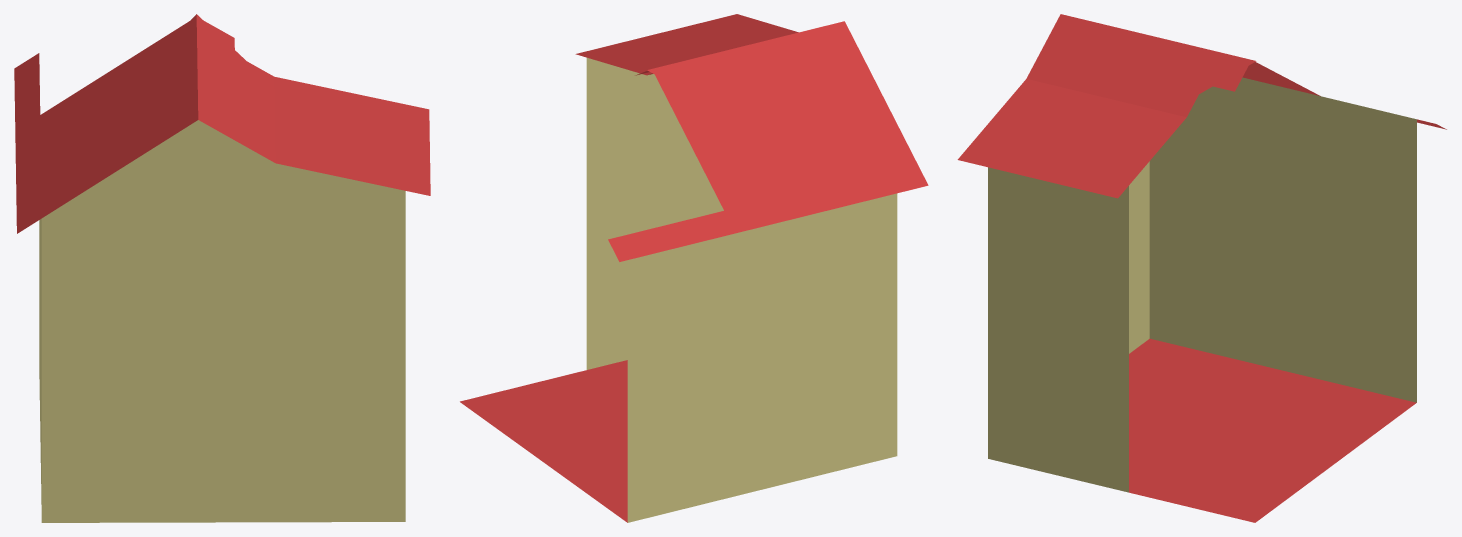
3 views of the same model, side by side, from view 1: azimuth 30°, elevation 25°; view 2: azimuth 150°, elevation 25°; view 3: azimuth 270°, elevation 25° (orthographic). The views are drawn at different scales.
Size of the model in its own units: 15.57 by 16.34 by 13.67.
